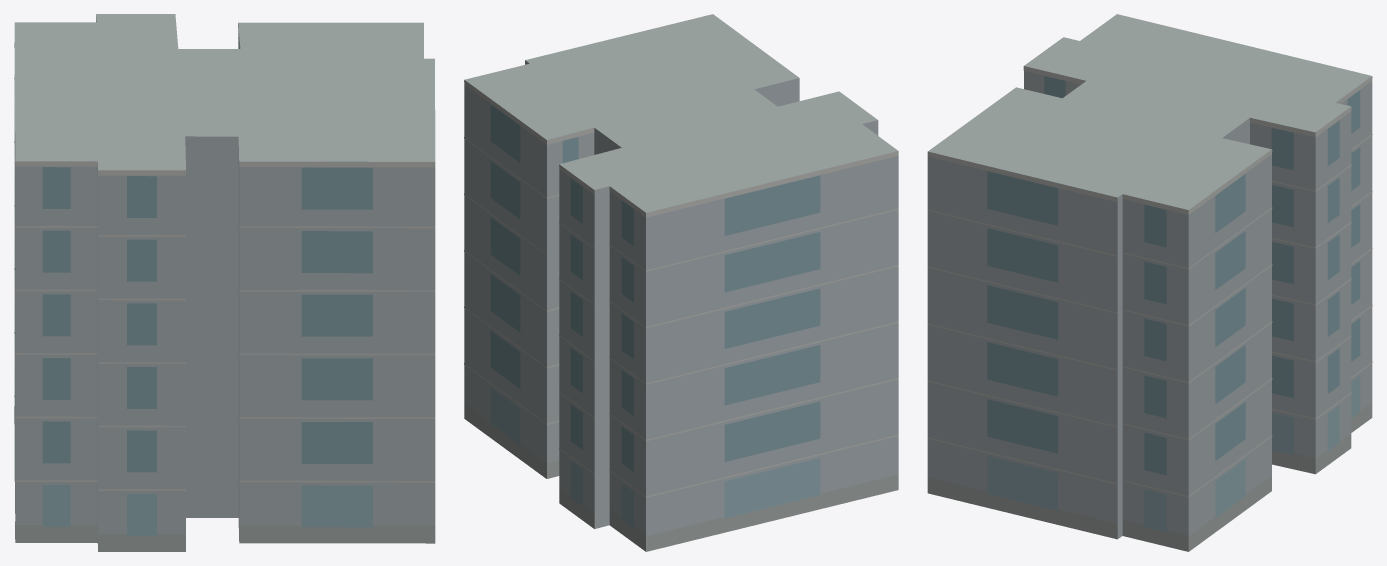
File: survey-upis-32511062.glb
3 renders of one model, left to right at view 1: azimuth 30°, elevation 25°; view 2: azimuth 150°, elevation 25°; view 3: azimuth 270°, elevation 25°, orthographic. The views are drawn at different scales.
Visible parts, largest first — view 1: survey-upis-32511062.tmp; view 2: survey-upis-32511062.tmp; view 3: survey-upis-32511062.tmp.
Part boxes in pixels (x1,y1,x2,y2): survey-upis-32511062.tmp: (14, 14, 435, 551); survey-upis-32511062.tmp: (464, 14, 898, 551); survey-upis-32511062.tmp: (927, 14, 1372, 551).
Size of the model in its own units: 21.07 by 17.1 by 20.18.
